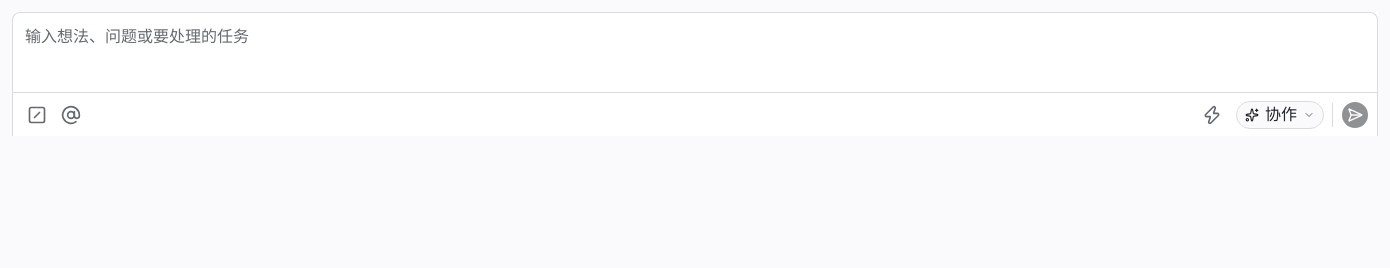
AgentComposer › 默认模式菜单只显示协作和目标模式
Press the mouse on the button with aria-label "当前模式：协作" at (1280, 114), box top-left (1236, 100), bottom-right (1324, 128)
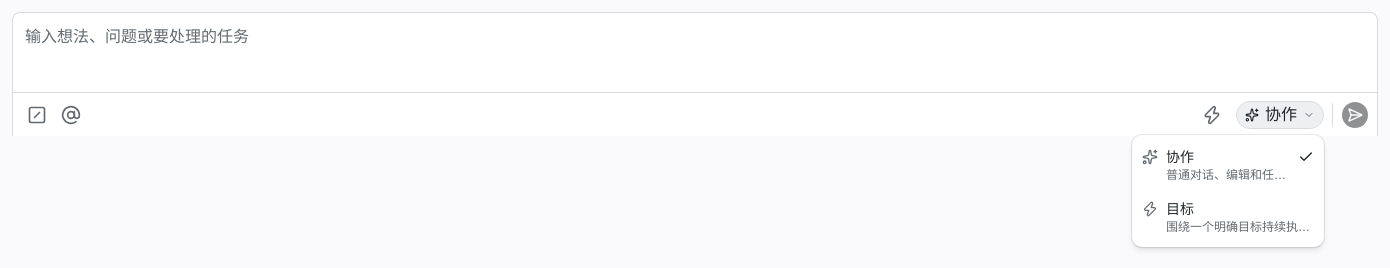
Result: the number of menu items is 2 at top-left (1136, 139), bottom-right (1320, 191); top-left (1136, 191), bottom-right (1320, 243)
Result: the menu item "目标 围绕一个明确目标持续执行、验证和回写" is shown at top-left (1136, 191), bottom-right (1320, 243)
Result: the menu item "协作 普通对话、编辑和任务执行模式" is shown at top-left (1136, 139), bottom-right (1320, 191)
